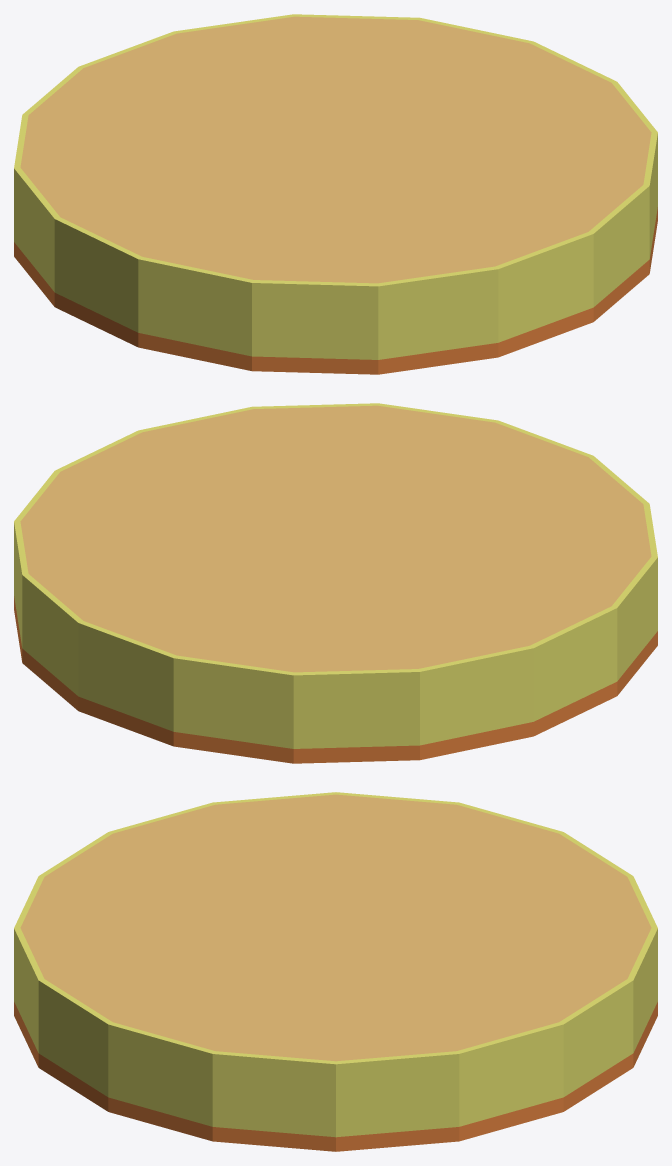
File: Cheesecake.fbx
3 views of the same model, one above another, from view 1: azimuth 30°, elevation 25°; view 2: azimuth 150°, elevation 25°; view 3: azimuth 270°, elevation 25° (orthographic).
Visible parts, largest first — view 1: Circle.002, Circle.001, Circle; view 2: Circle.002, Circle.001, Circle; view 3: Circle.002, Circle.001, Circle.
Part boxes in pixels (x1=…): Circle.002: x1=20, y1=16, x2=651, y2=283; Circle.001: x1=14, y1=14, x2=657, y2=359; Circle: x1=14, y1=207, x2=657, y2=374; Circle.002: x1=20, y1=405, x2=651, y2=672; Circle.001: x1=14, y1=403, x2=657, y2=748; Circle: x1=14, y1=596, x2=657, y2=763; Circle.002: x1=20, y1=794, x2=651, y2=1061; Circle.001: x1=14, y1=792, x2=657, y2=1137; Circle: x1=14, y1=1002, x2=657, y2=1151.
Bounding box in the file's own units: 200 × 30.1 × 200.
